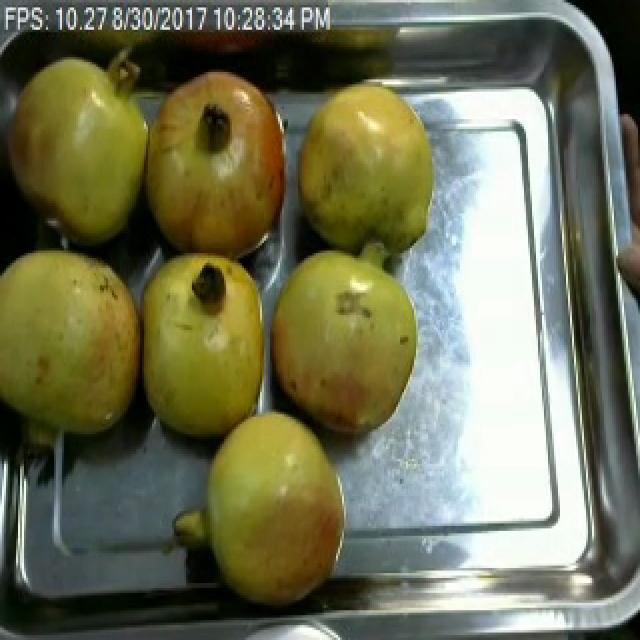fruit: (184, 392, 368, 623), (256, 236, 430, 452), (2, 226, 168, 447), (126, 62, 302, 260), (0, 39, 158, 250), (288, 74, 444, 270)
